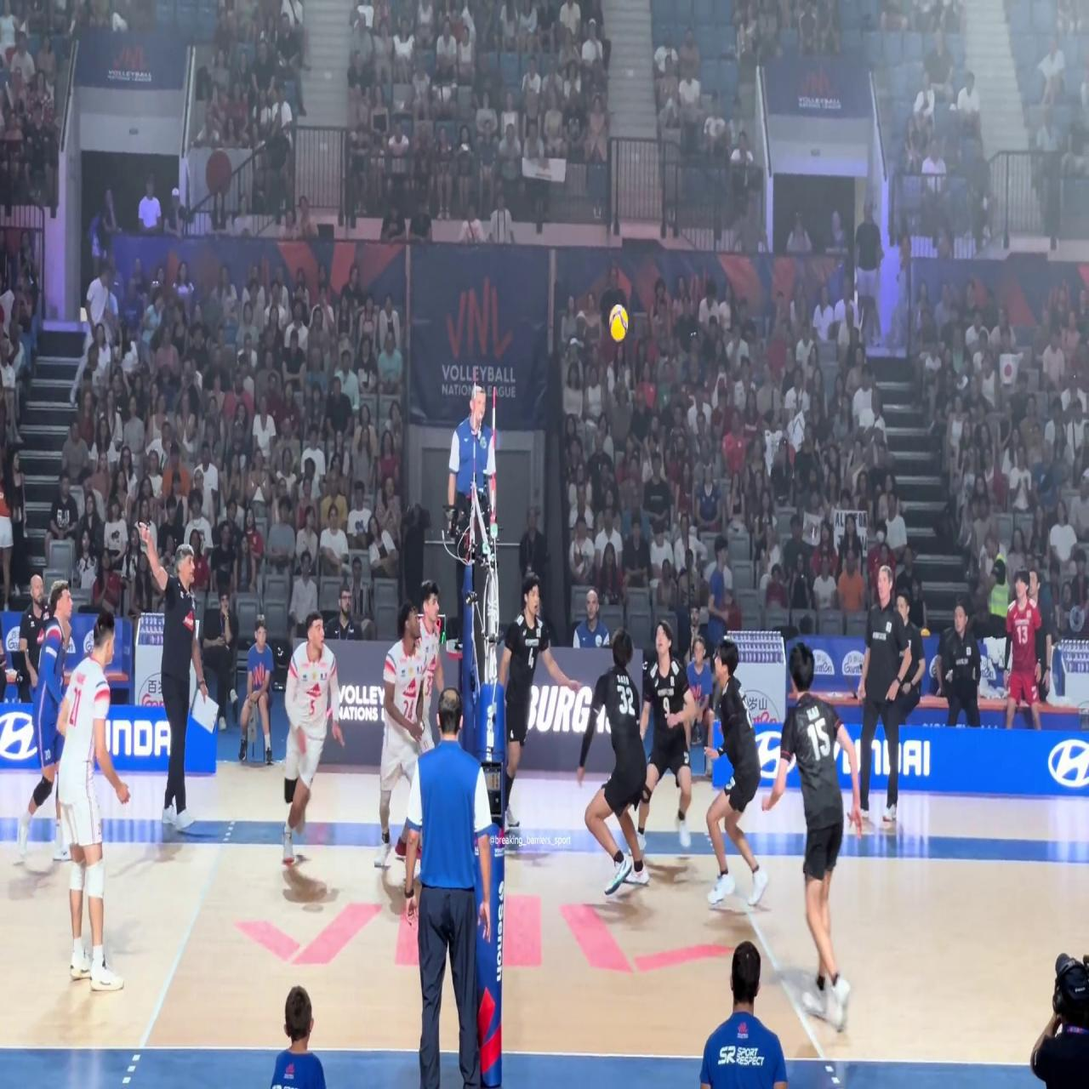ball: (610, 306, 628, 342)
